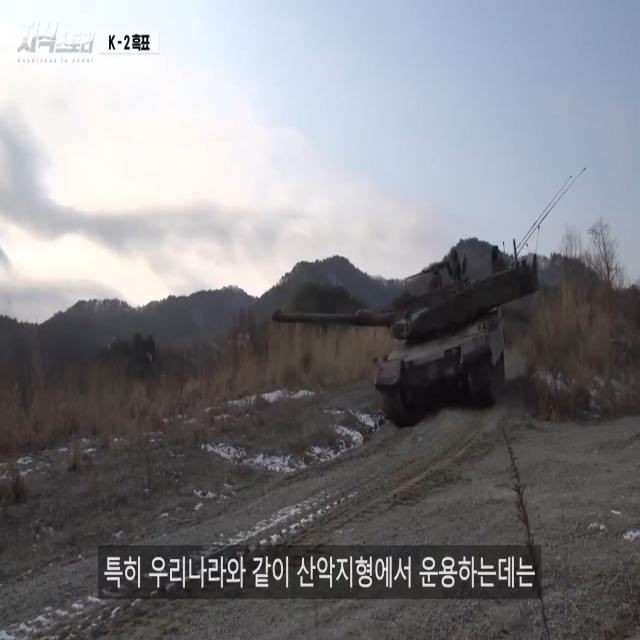korea tank: (270, 234, 538, 424)
